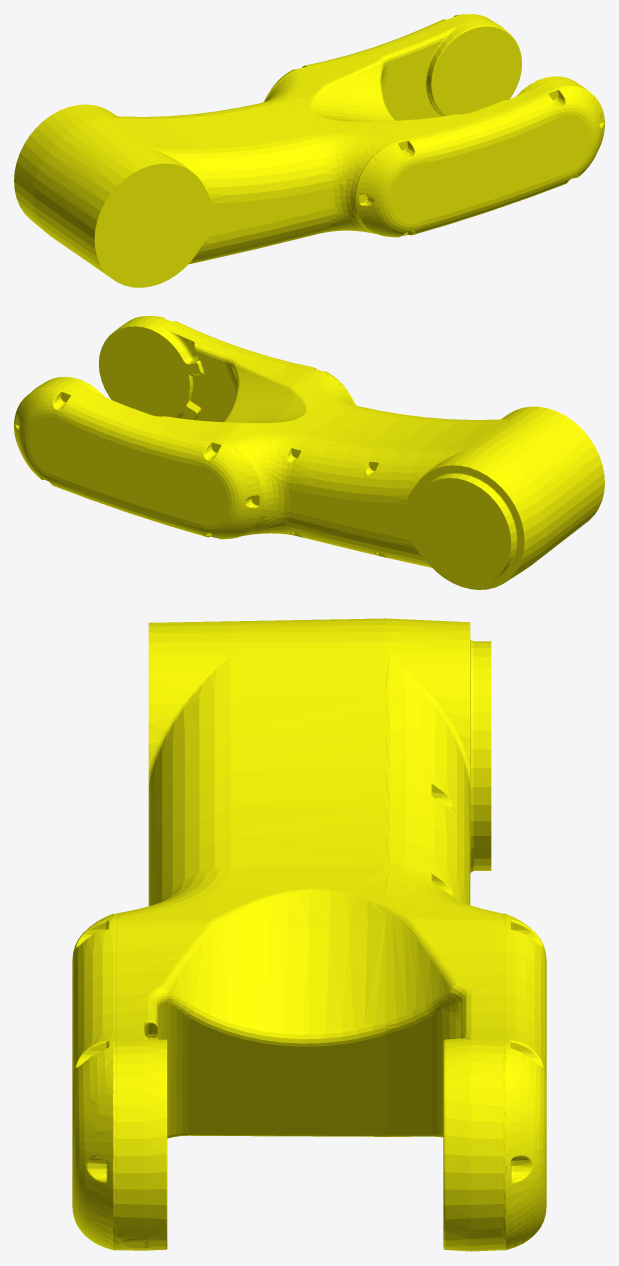
3 views of the same model, one above another, from view 1: azimuth 30°, elevation 25°; view 2: azimuth 150°, elevation 25°; view 3: azimuth 270°, elevation 25° (orthographic). The views are drawn at different scales.
Parts seen in each view (by area): view 1: node; view 2: node; view 3: node.
Boxes of the visible parts, x1,y1,x2,y2 form: node: (14,14,604,287); node: (14,316,604,589); node: (72,618,546,1251).
Bounding box in the file's own units: 557 × 135 × 227.
